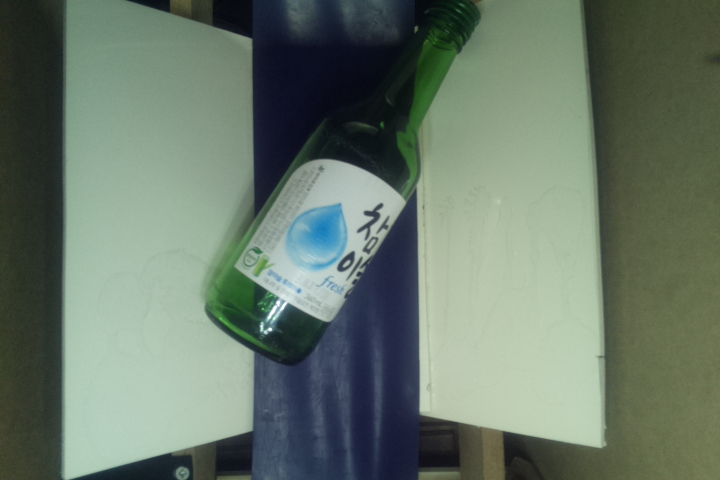soju: (199, 1, 483, 370)
